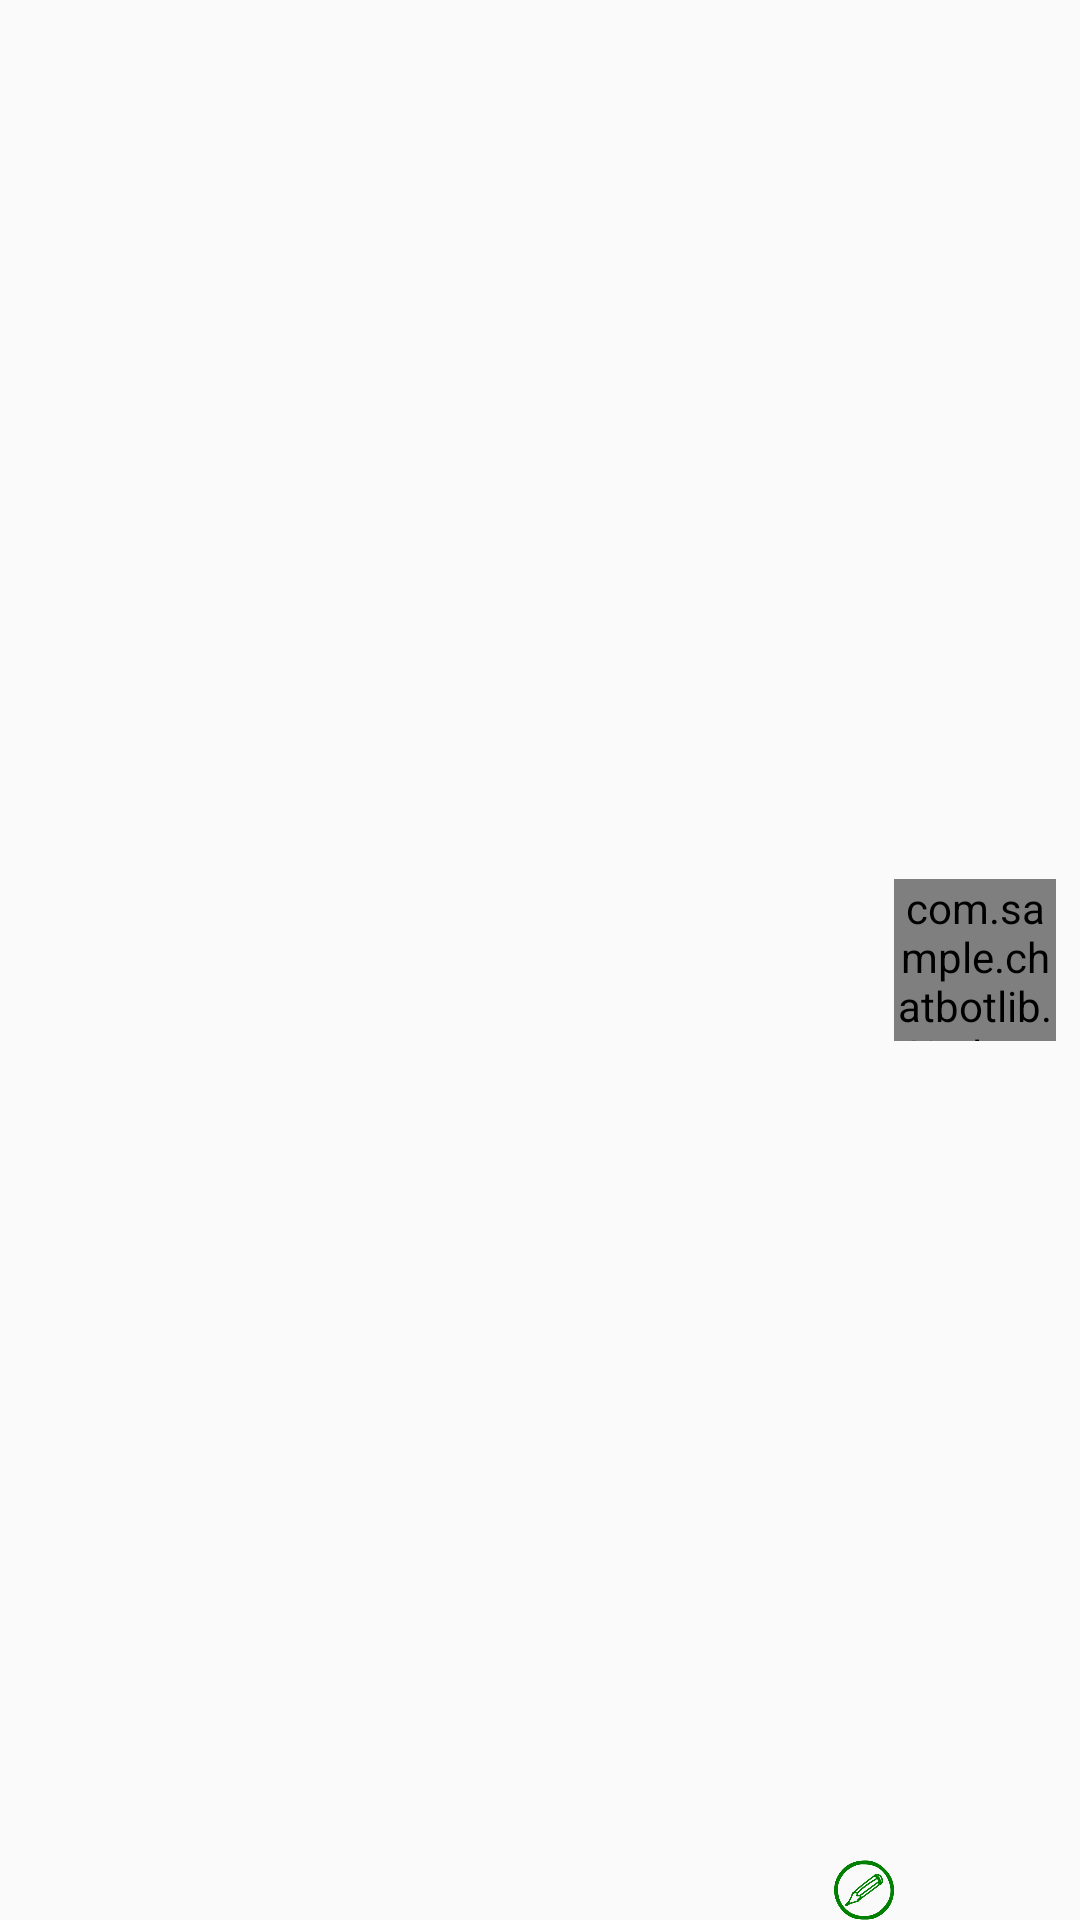

Locate icon controls on the screen. Image size 1080px×1920px, boxes as (x1, y1, x2, y2).
edit: (834, 1860, 894, 1920)
